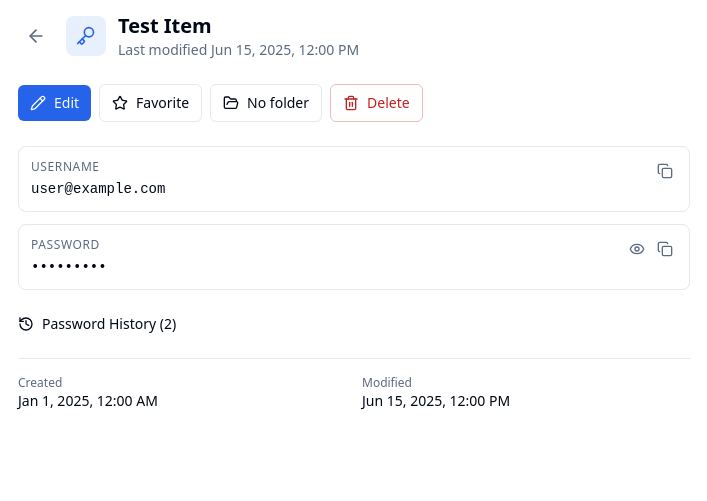
Test: VaultItemDetail / password history › keeps the still-decryptable entries when one entry fails to decrypt
Click the button "Password History (2)": (97, 324) [18,314,176,334]
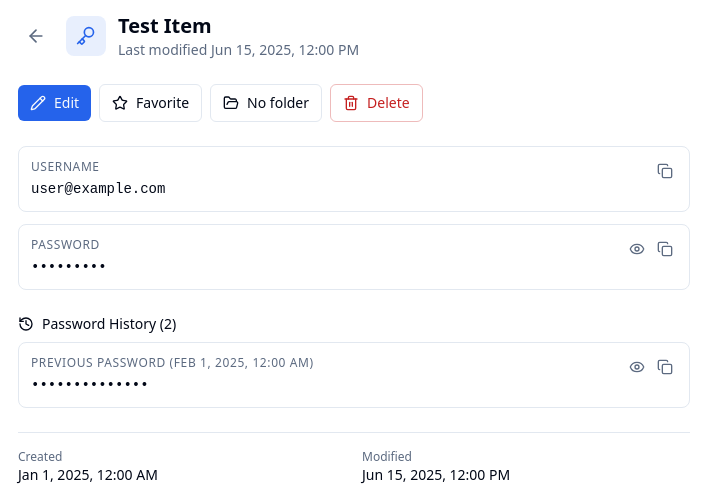
Result: the text "Previous password (Feb 1, 2025, 12:00 AM)" is shown once at [31,354,314,371]
